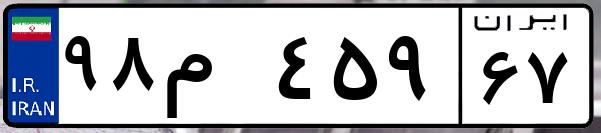4: (270, 28, 330, 110)
5: (330, 28, 385, 110)
6: (475, 38, 525, 113)
7: (525, 38, 570, 115)
8: (110, 28, 158, 98)
9: (385, 28, 445, 110), (57, 26, 110, 100)
م: (158, 20, 270, 120)
